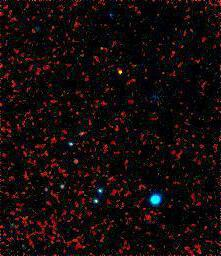star: (106, 53, 136, 83)
